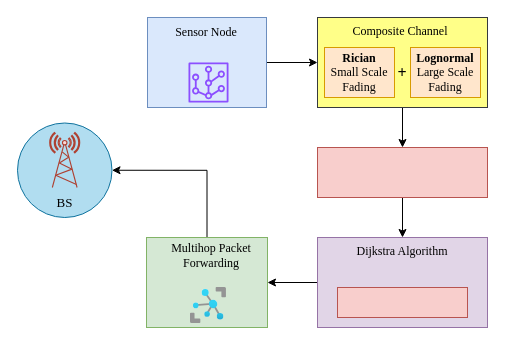
This 505x345 diagram has some shape labels left out. The shapes that lost their labels are listed below. From the top down, each one's centre as x and y in pixels, then its label:
At point (402, 172): "Link Weight Computation".
At point (402, 302): "Path Selection".
